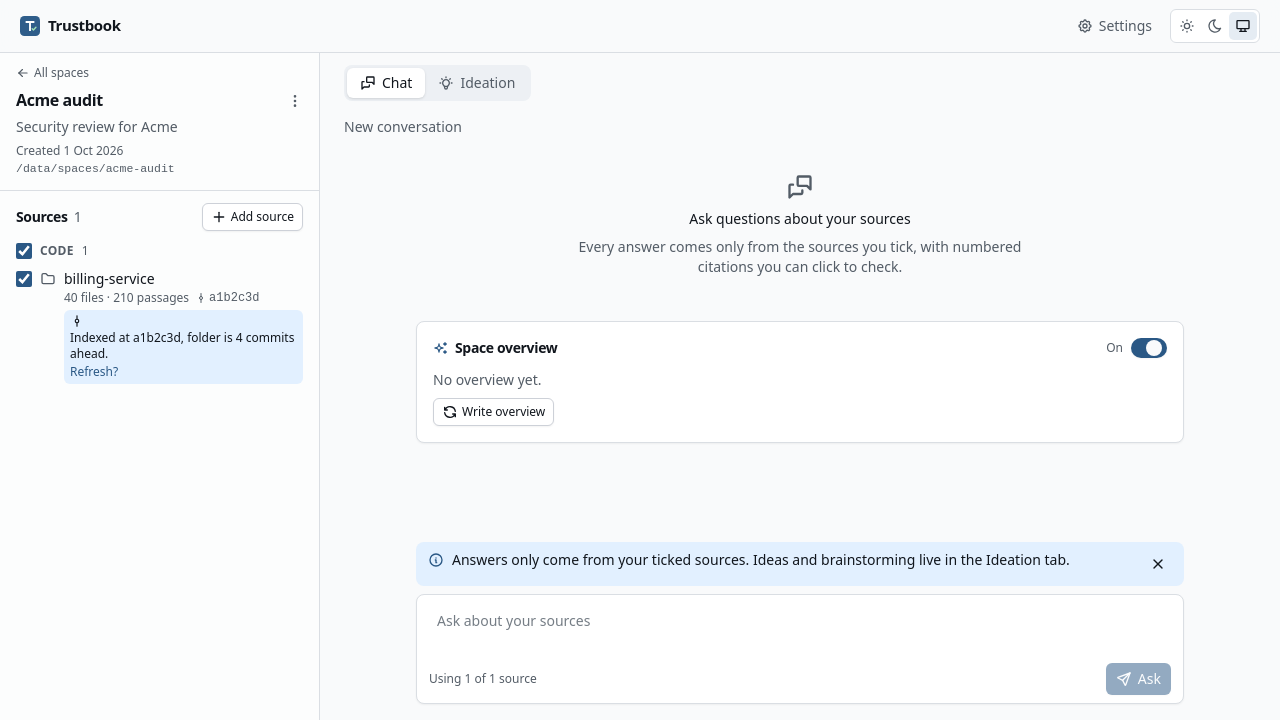
Test case: folder commits (SPEC §7.5) › offers a refresh when the folder moved on, then shows what changed
Expected: the element with test id "source-ahead" shows "Indexed at a1b2c3d, folder is 4 commits ahead.", [70,329,294,362]
Step 1. Click the button "Refresh?" → (94, 372), box [70,364,118,380]
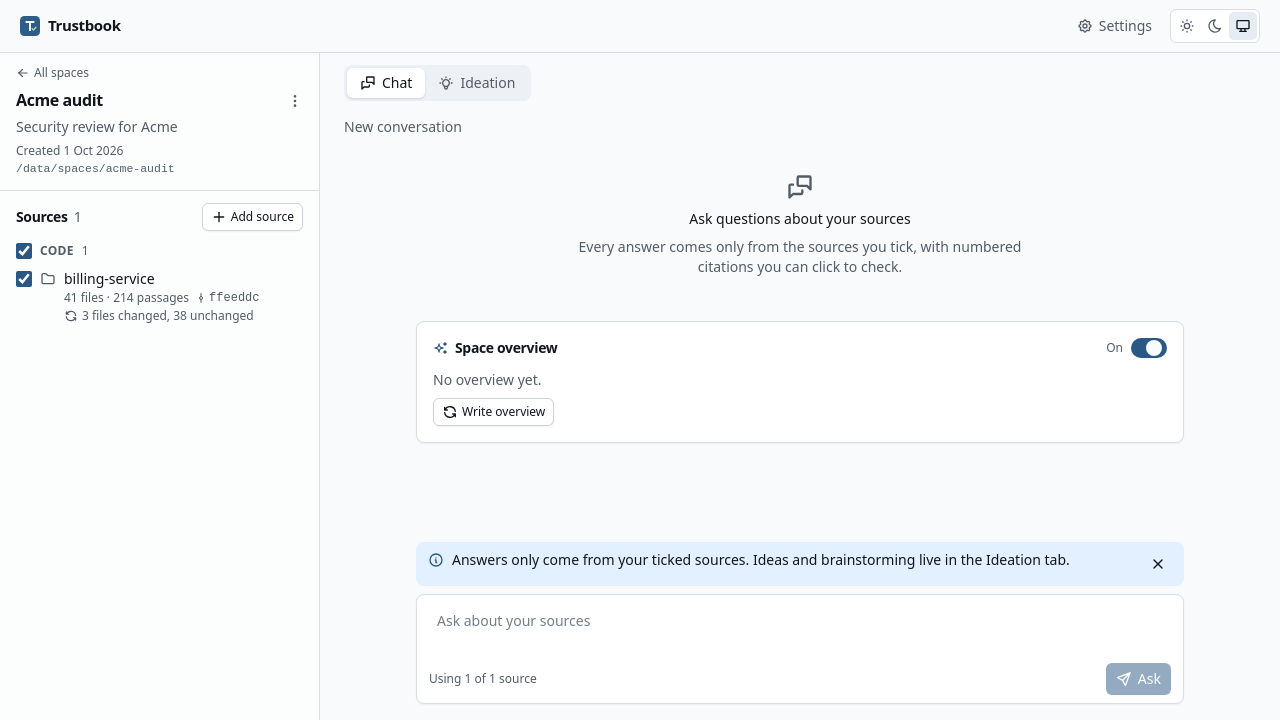
Now the element with test id "source-ahead" is gone
Now the element with test id "source-refresh-stats" reads "3 files changed, 38 unchanged", box [82,307,254,324]
Now the text "ffeeddc" is shown, box [195,290,260,306]
